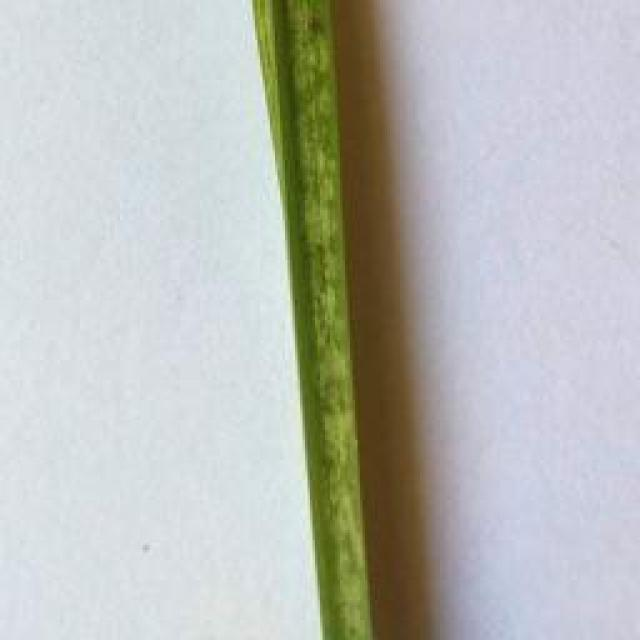Healthy-Plant: (240, 0, 388, 640)
